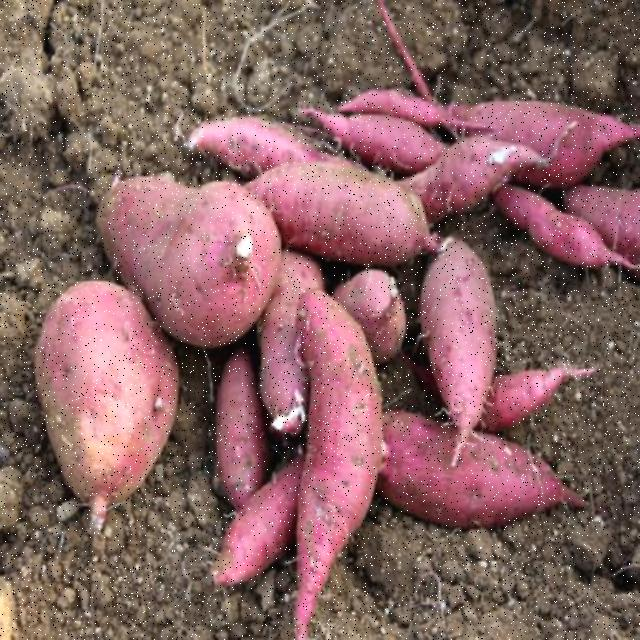Sweet Potato: (6, 236, 174, 524), (274, 270, 388, 639), (420, 202, 498, 464)
